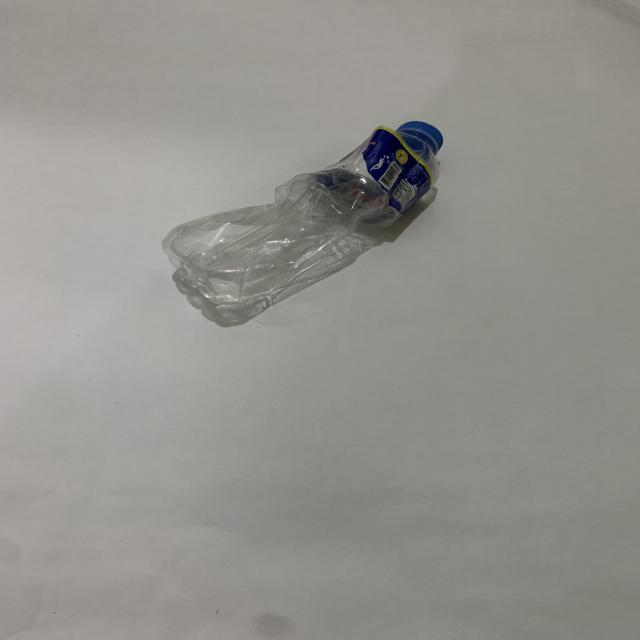bottle: (149, 107, 471, 318)
